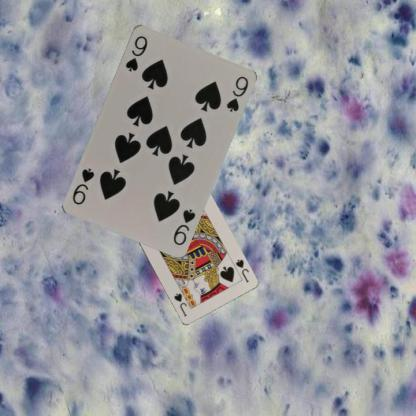9s: (122, 32, 148, 73), (170, 206, 196, 246)
Js: (232, 256, 250, 284)
